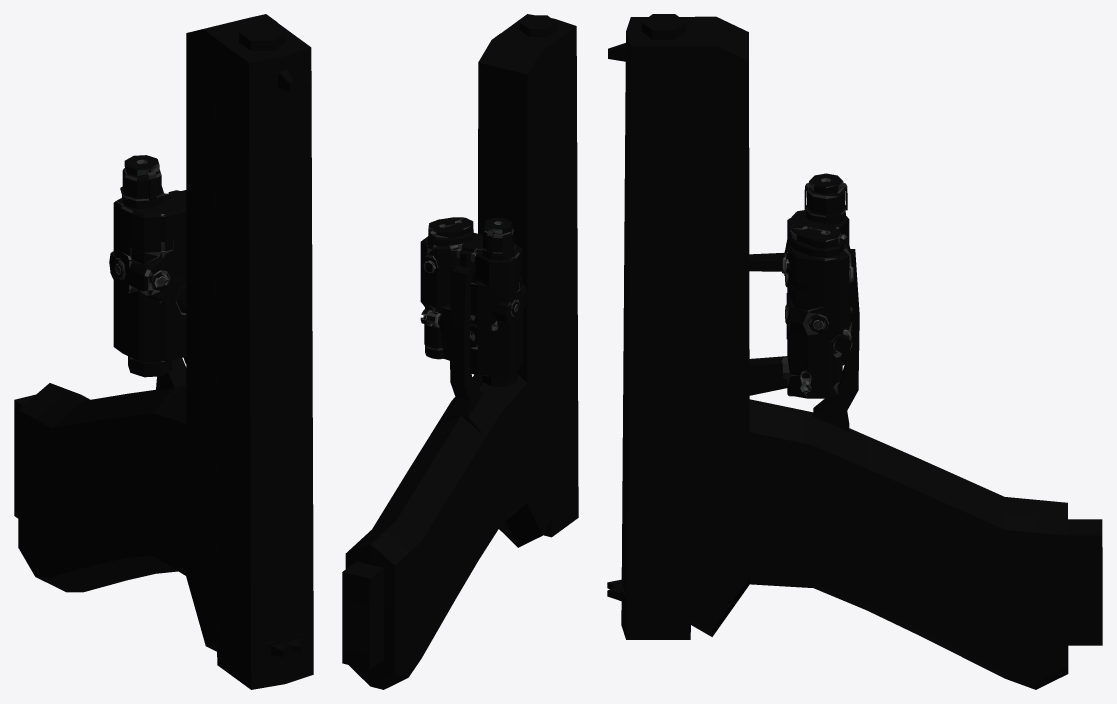
The model's file is Glock19__Laser_Pistol.fbx.
3 views of the same model, side by side, from view 1: azimuth 30°, elevation 25°; view 2: azimuth 150°, elevation 25°; view 3: azimuth 270°, elevation 25° (orthographic). The views are drawn at different scales.
Visible parts, largest first — view 1: asset_Glock19.001; view 2: asset_Glock19.001; view 3: asset_Glock19.001.
Boxes of the visible parts, <box> form: asset_Glock19.001: <box>14,14,313,689</box>; asset_Glock19.001: <box>342,14,578,689</box>; asset_Glock19.001: <box>607,14,1102,689</box>.
Size of the model in its own units: 0.0189 by 0.108 by 0.0726.
